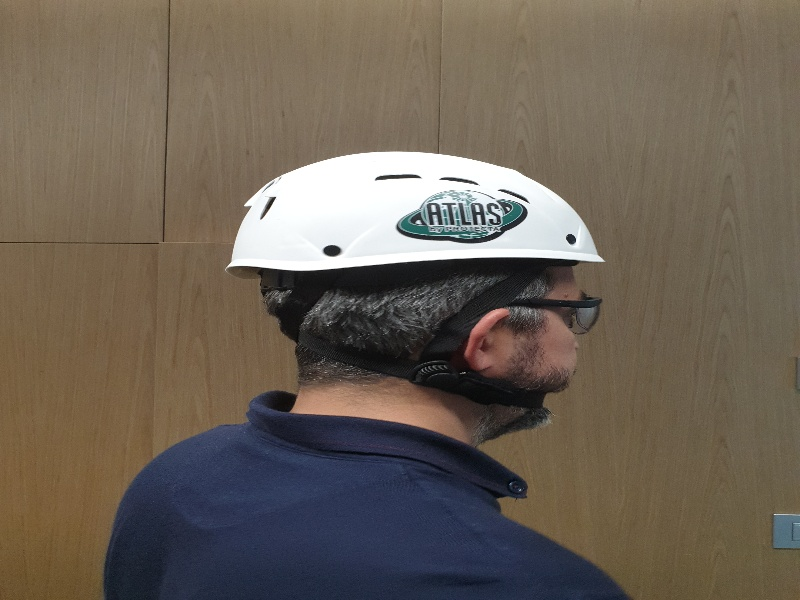Baret: (225, 152, 609, 269)
Gozluk: (475, 295, 600, 335)
